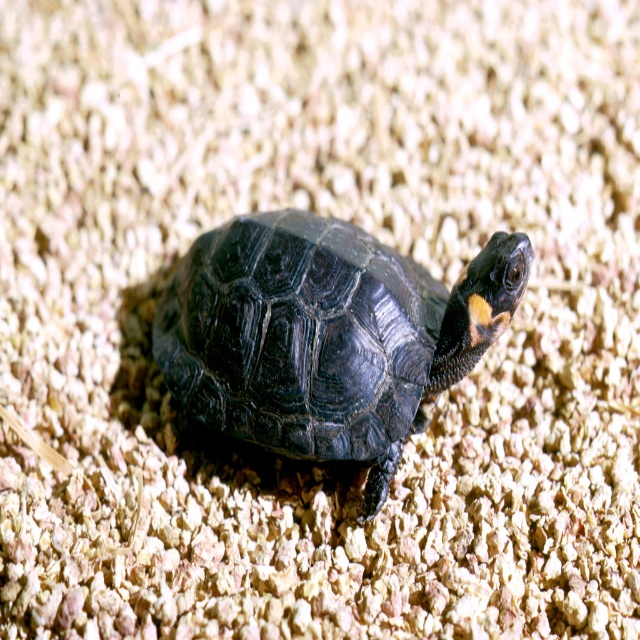Sea turtle: (151, 203, 535, 525)
